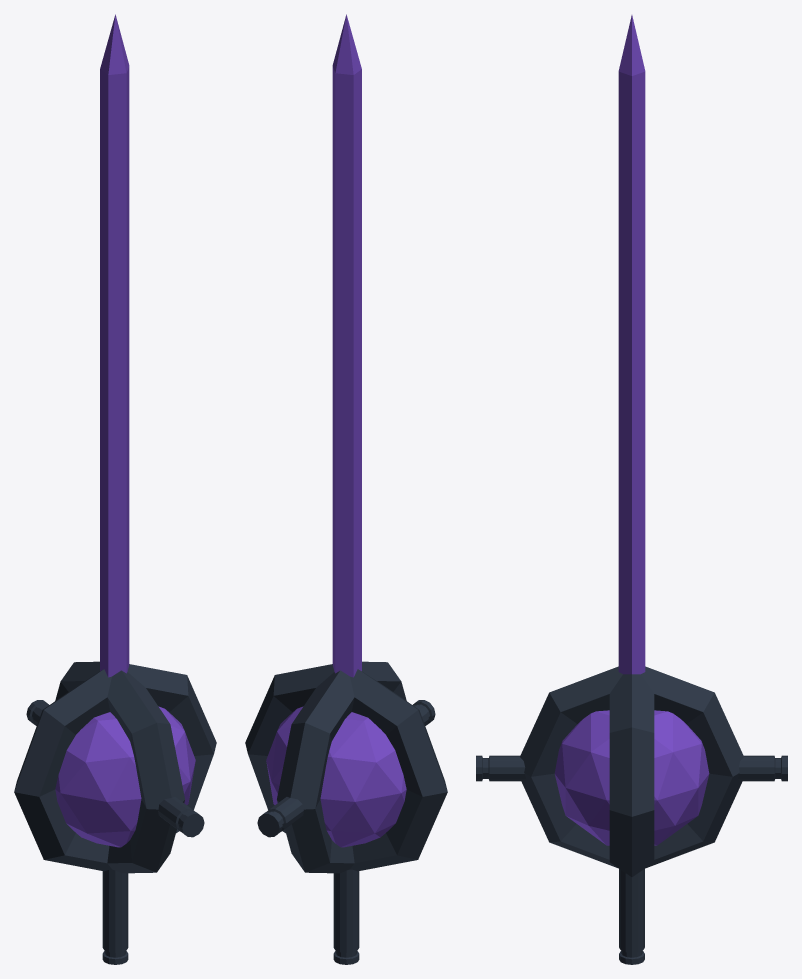
Rendered from espadavioleta.obj.
3 views of the same model, side by side, from view 1: azimuth 30°, elevation 25°; view 2: azimuth 150°, elevation 25°; view 3: azimuth 270°, elevation 25° (orthographic).
Visible parts, largest first — view 1: Icosphere, Torus, Torus.001, Cylinder, Cylinder.001; view 2: Icosphere, Torus, Torus.001, Cylinder, Cylinder.001; view 3: Icosphere, Torus.001, Torus, Cylinder.001, Cylinder.
Part boxes in pixels (x1,y1,x2,y2): Icosphere: [55, 14, 195, 847]; Torus: [14, 664, 216, 871]; Torus.001: [55, 661, 184, 873]; Cylinder: [102, 869, 128, 964]; Cylinder.001: [26, 700, 204, 837]; Icosphere: [266, 14, 406, 847]; Torus: [245, 664, 447, 871]; Torus.001: [277, 661, 406, 873]; Cylinder: [333, 869, 359, 964]; Cylinder.001: [257, 700, 435, 837]; Icosphere: [554, 15, 709, 845]; Torus.001: [520, 666, 743, 868]; Torus: [609, 674, 654, 876]; Cylinder.001: [476, 755, 787, 781]; Cylinder: [619, 869, 644, 964].
Bounding box in the file's own units: 0.7127 × 3.18 × 0.9492.
